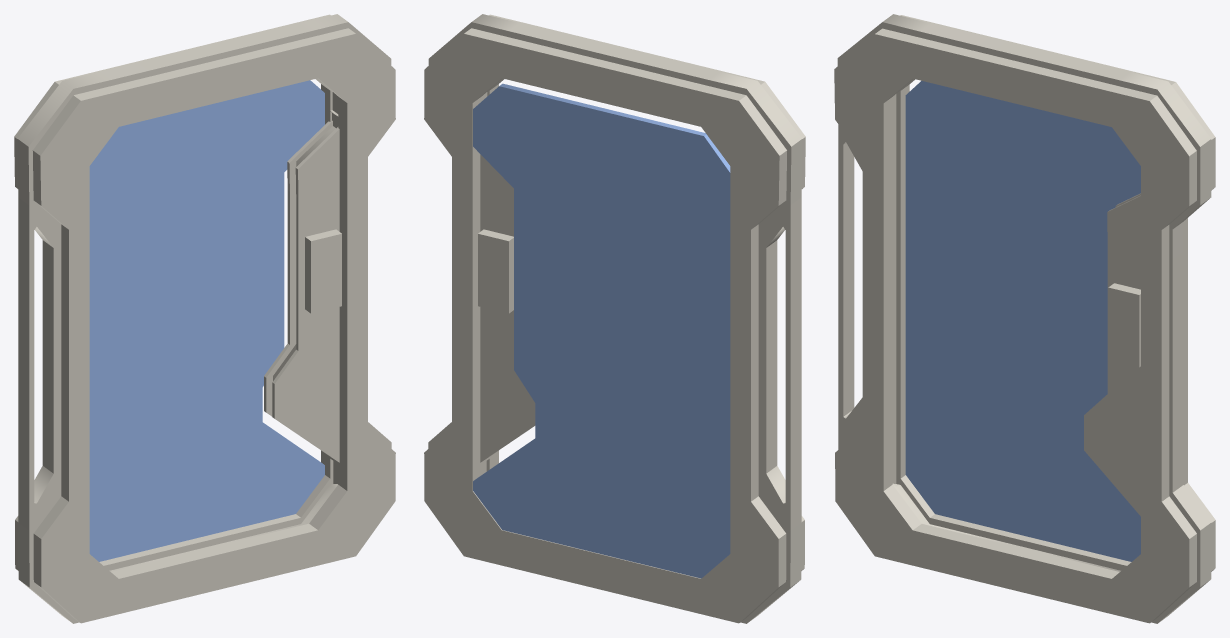
Rendered from Capstone_Door_KrystalONeill.fbx.
3 views of the same model, side by side, from view 1: azimuth 30°, elevation 25°; view 2: azimuth 150°, elevation 25°; view 3: azimuth 330°, elevation 25° (orthographic).
Parts seen in each view (by area): view 1: DoorInner_low, Glass_low001; view 2: Glass_low001, DoorInner_low; view 3: DoorInner_low, Glass_low001.
Boxes of the visible parts, bbox=[...] form: DoorInner_low: bbox=[14, 14, 395, 623]; Glass_low001: bbox=[89, 80, 324, 561]; Glass_low001: bbox=[473, 83, 730, 578]; DoorInner_low: bbox=[424, 14, 805, 623]; DoorInner_low: bbox=[834, 14, 1215, 623]; Glass_low001: bbox=[905, 80, 1140, 561].
Bounding box in the file's own units: 64.03 × 90.2 × 8.02.
